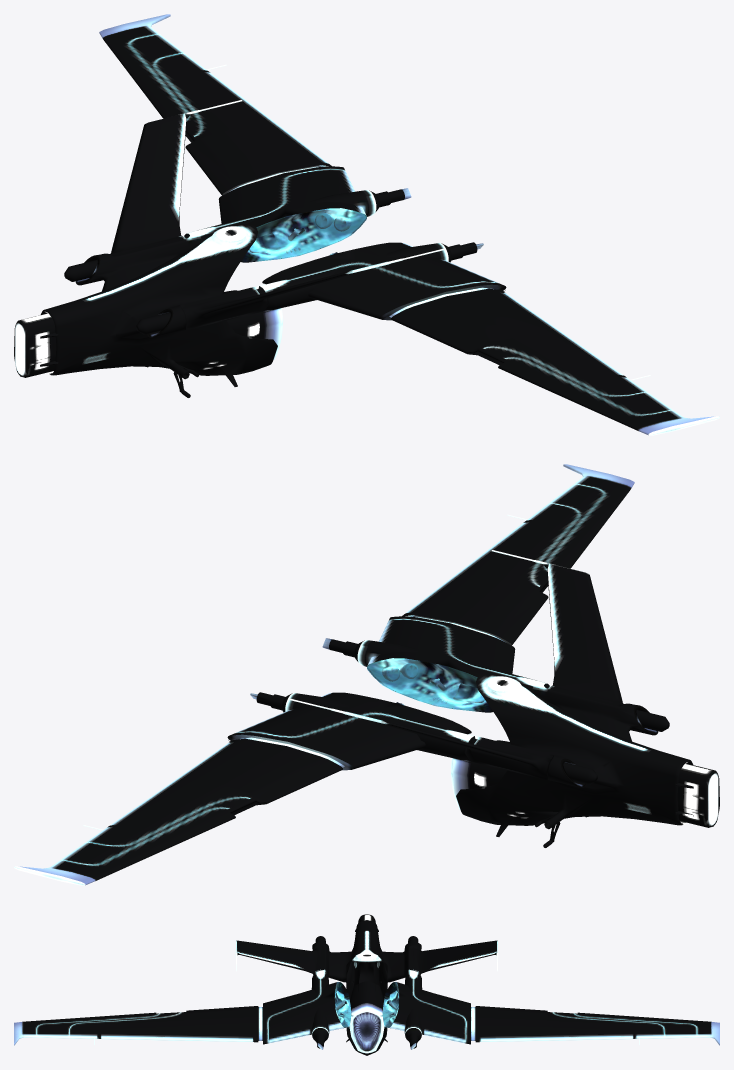
The model's file is lightjet.glb.
3 renders of one model, top to bottom at view 1: azimuth 30°, elevation 25°; view 2: azimuth 150°, elevation 25°; view 3: azimuth 270°, elevation 25°, orthographic. The views are drawn at different scales.
Parts seen in each view (by area): view 1: Light Jet; view 2: Light Jet; view 3: Light Jet.
Part boxes in pixels (x1,y1,x2,y2): Light Jet: (14,14,719,435); Light Jet: (14,464,719,885); Light Jet: (14,914,719,1055).
Bounding box in the file's own units: 3.4 × 1.33 × 7.6.
1 material, 1 textured.
